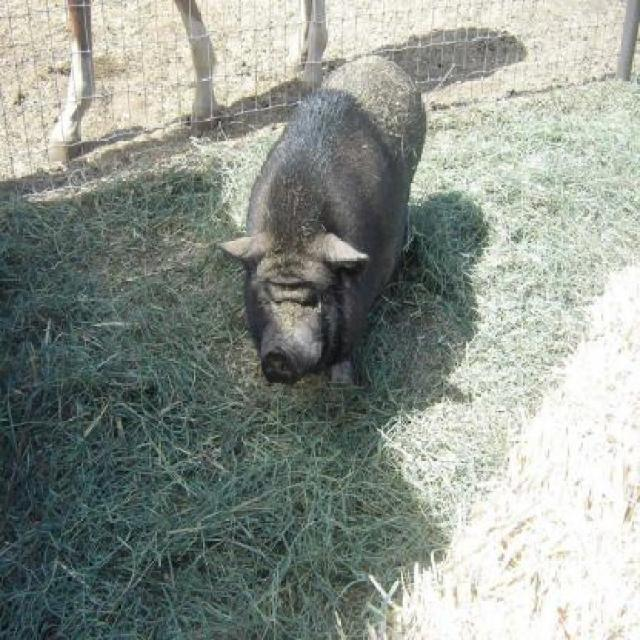pig: (216, 52, 430, 396)
